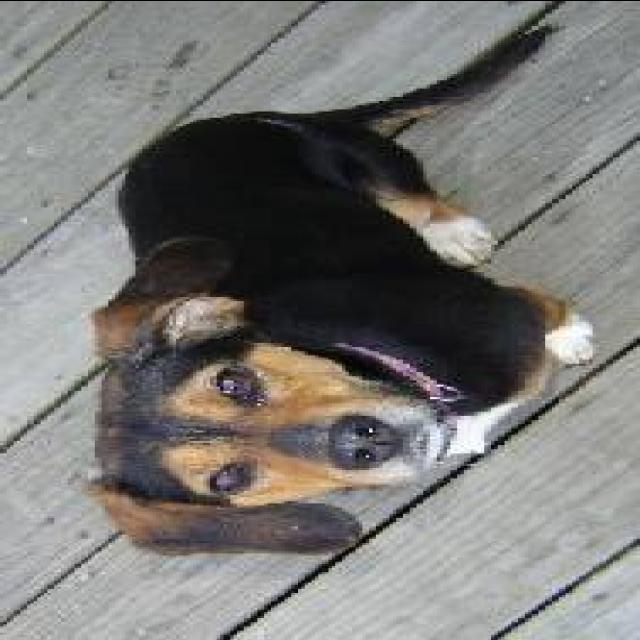dog: (21, 0, 626, 582)
